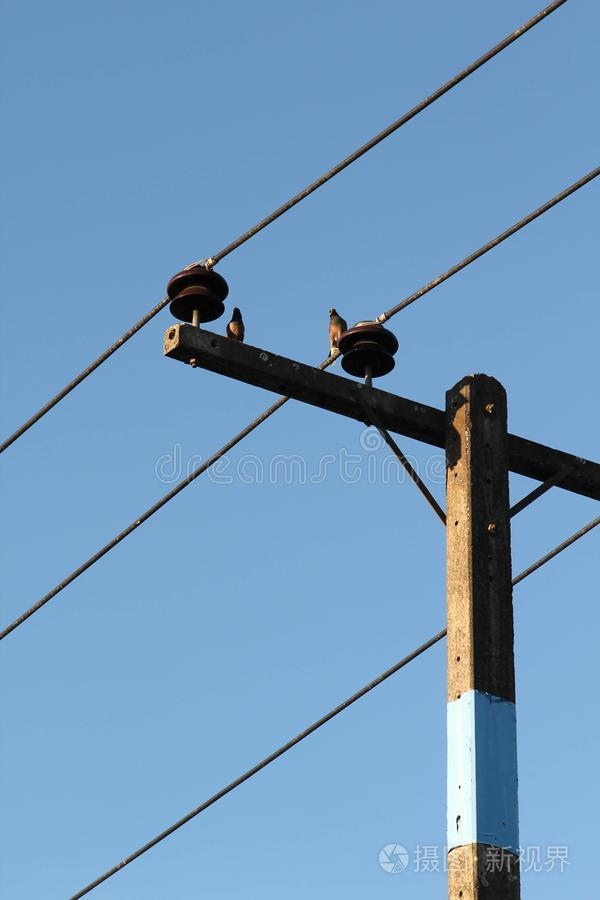insulator: (336, 328, 402, 378), (167, 265, 230, 317)
